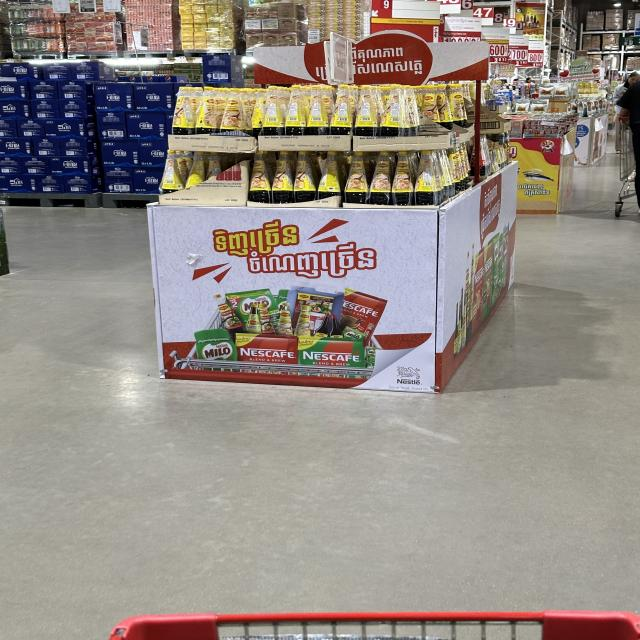Yolov11_80vkh: (228, 238, 382, 287), (199, 214, 307, 261)
